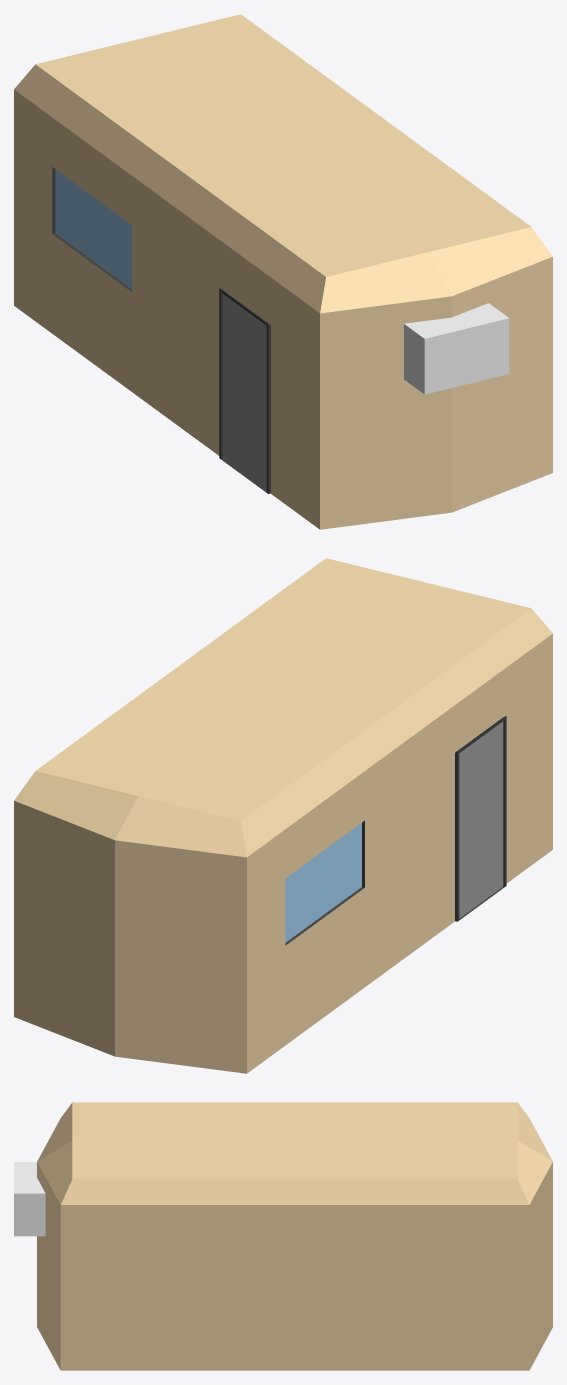
The model's file is Trailer.fbx.
3 views of the same model, one above another, from view 1: azimuth 30°, elevation 25°; view 2: azimuth 150°, elevation 25°; view 3: azimuth 270°, elevation 25° (orthographic). The views are drawn at different scales.
Visible parts, largest first — view 1: trailer; view 2: trailer; view 3: trailer.
Boxes of the visible parts, x1,y1,x2,y2 form: trailer: (14, 14, 552, 529); trailer: (14, 558, 552, 1073); trailer: (14, 1102, 552, 1370).
Bounding box in the file's own units: 720 × 712 × 1862.
